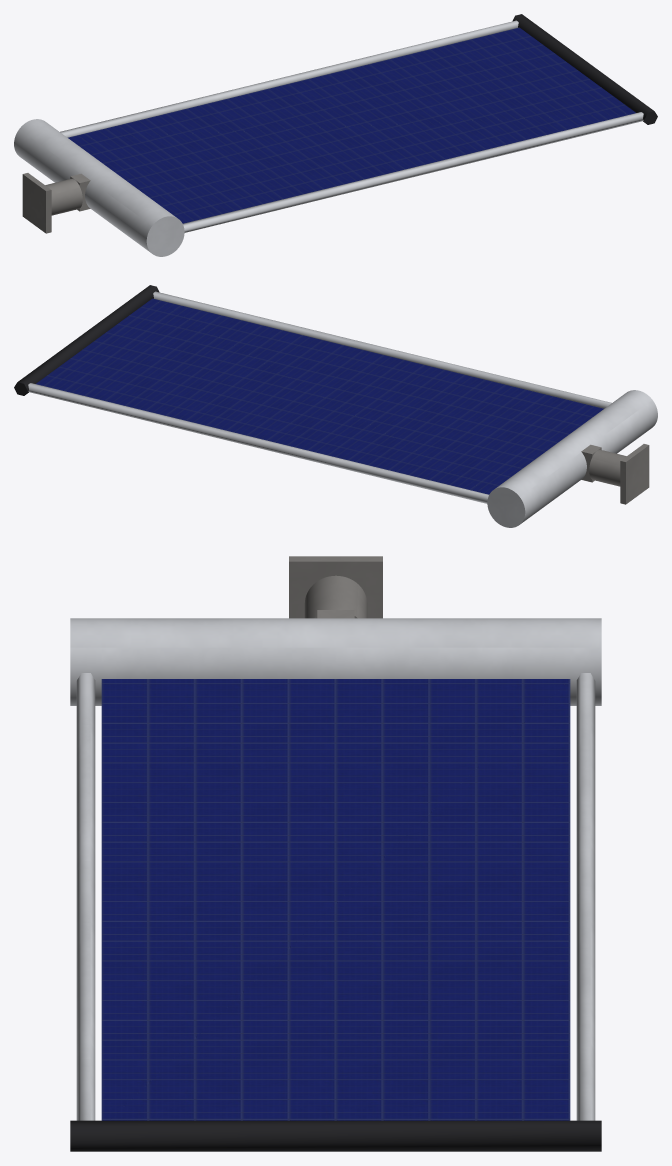
Rendered from power00_rosa_array_deployed.glb.
3 views of the same model, one above another, from view 1: azimuth 30°, elevation 25°; view 2: azimuth 150°, elevation 25°; view 3: azimuth 270°, elevation 25° (orthographic). The views are drawn at different scales.
Visible parts, largest first — view 1: blanket, booms, roll_canister, sada_base, tip_bar; view 2: blanket, booms, roll_canister, sada_base, tip_bar; view 3: blanket, roll_canister, booms, tip_bar, sada_base.
Boxes of the visible parts, x1,y1,x2,y2 form: blanket: (68,27,635,223); booms: (60,20,643,232); roll_canister: (14,119,184,256); sada_base: (22,173,90,233); tip_bar: (512,14,657,124); blanket: (36,298,603,494); booms: (28,291,611,503); roll_canister: (487,390,657,527); sada_base: (581,444,649,504); tip_bar: (14,285,159,395); blanket: (101,679,570,1120); roll_canister: (70,618,601,705); booms: (76,673,595,1120); tip_bar: (70,1120,601,1151); sada_base: (289,556,382,618).
Size of the model in its own units: 4.12 by 0.3 by 1.7.
4 materials, 3 textured.
